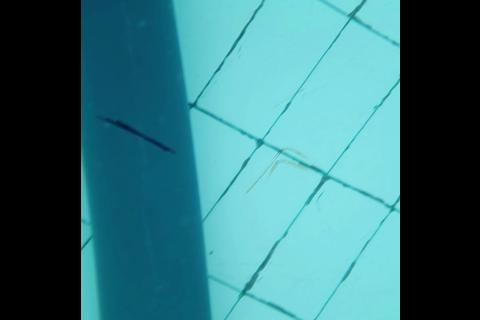keretakan: (94, 116, 176, 155)
